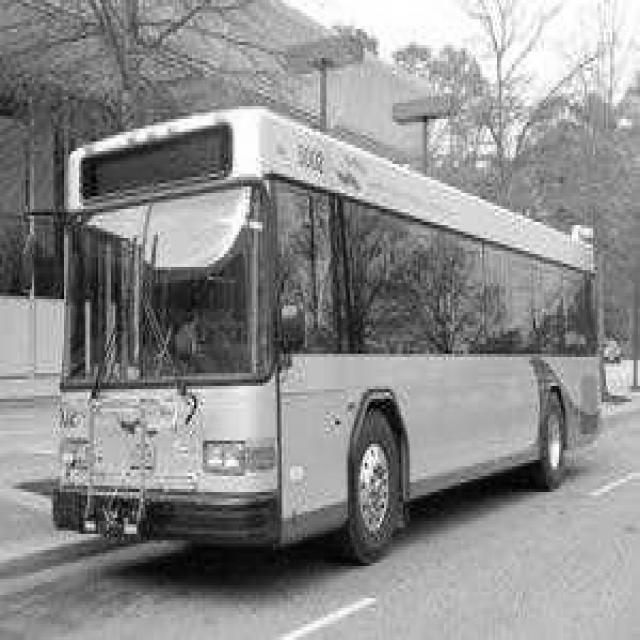Bus: (53, 108, 600, 560)
